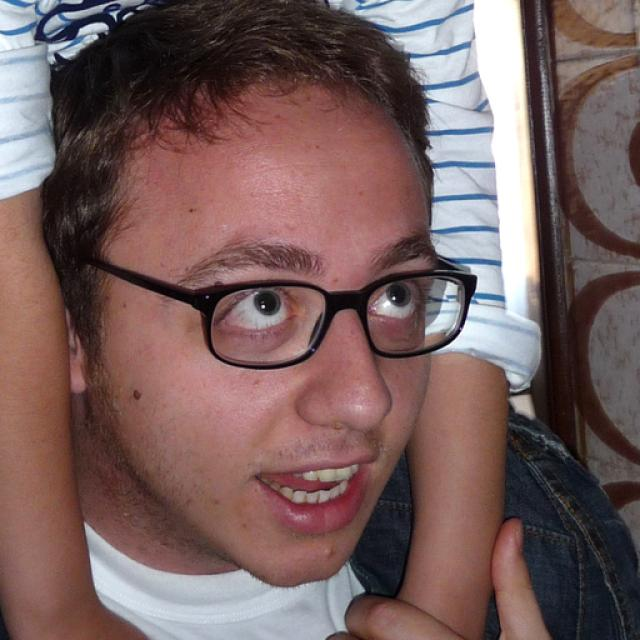Acne: (322, 544, 341, 563)
